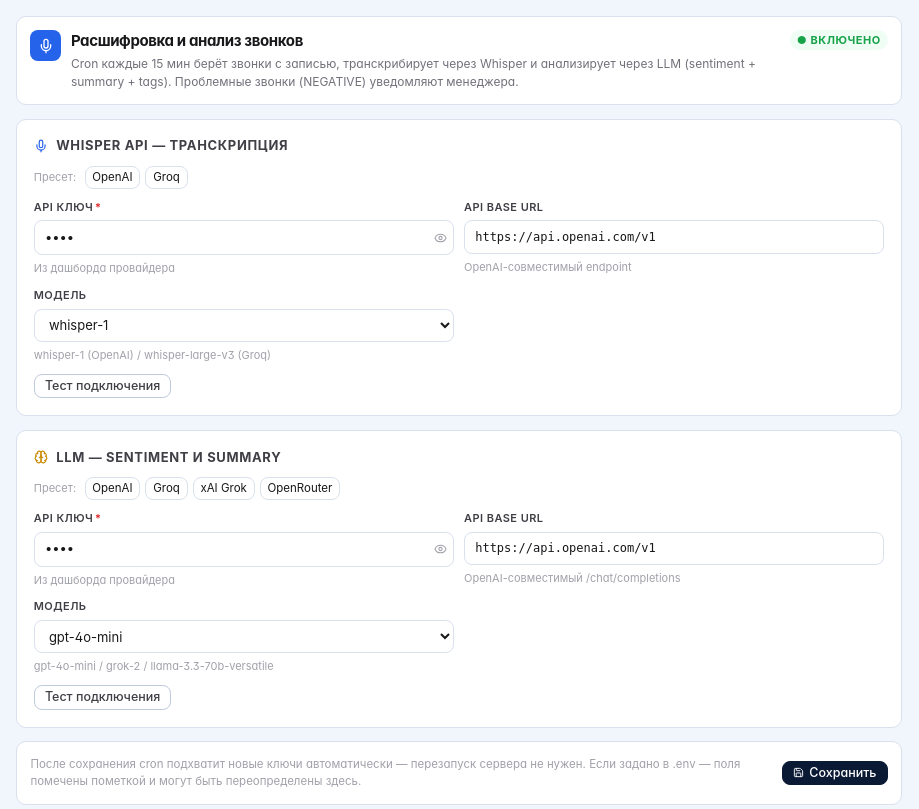
Test: CallAnalysisView — тест подключения › Whisper тест успех -> зелёный бейдж с message
Click the button "Тест подключения" below "Whisper API — транскрипция": (103, 386) [34, 374, 172, 398]
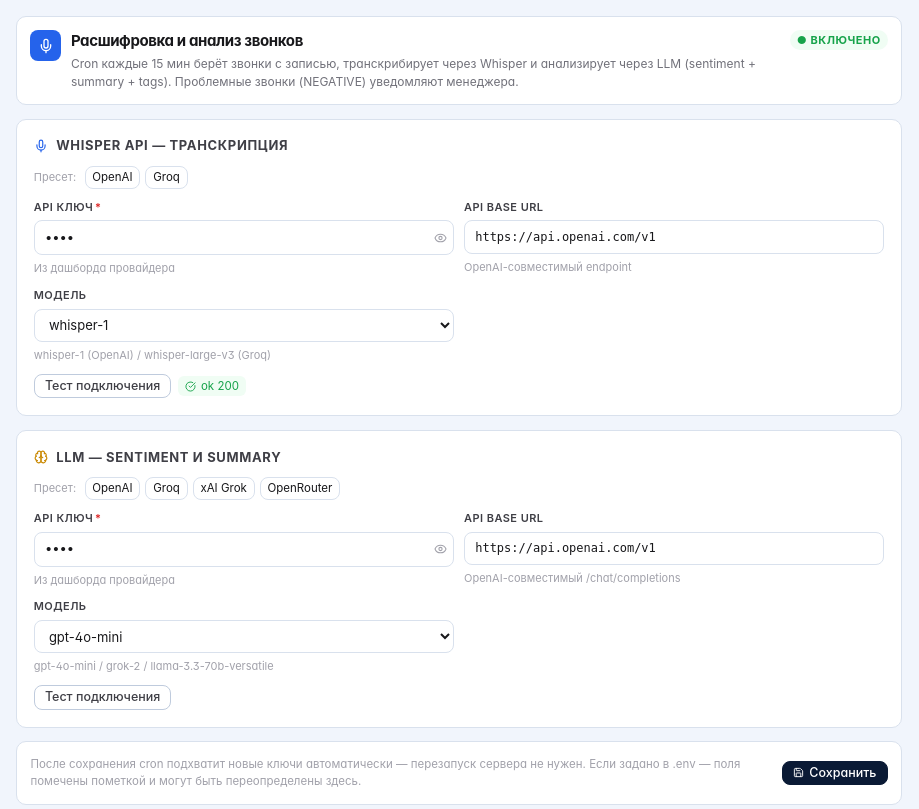
Expected: the text "ok 200" is shown, [178, 376, 246, 396]
